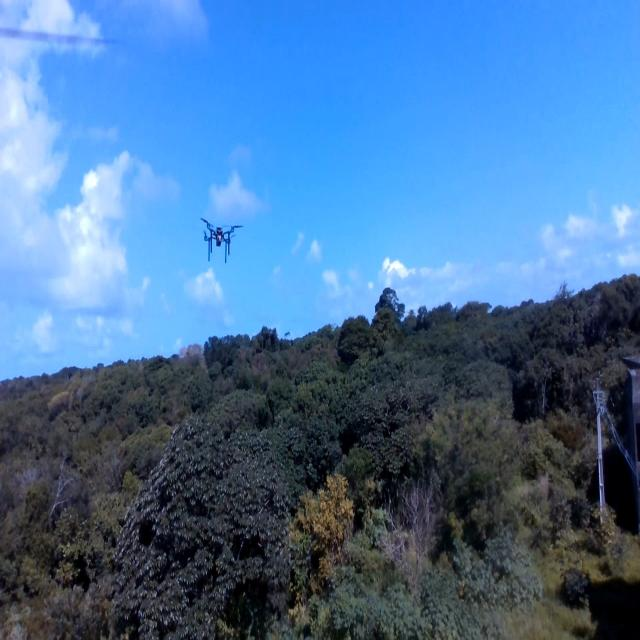-uav-: (194, 205, 248, 272)
